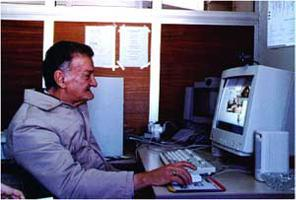person: (8, 40, 199, 199)
